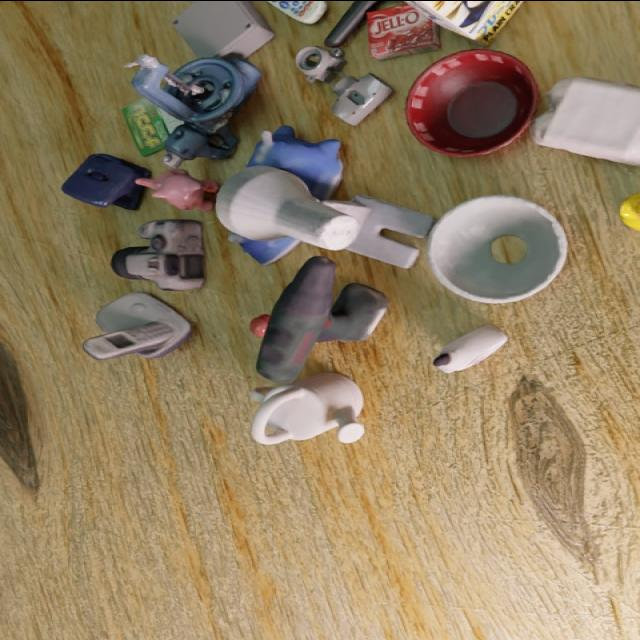Other Objects: (427, 195, 567, 303), (405, 49, 537, 156), (532, 77, 639, 165), (251, 372, 364, 444), (83, 292, 191, 359), (111, 219, 204, 289), (173, 1, 273, 57), (61, 154, 149, 209), (433, 326, 507, 373), (136, 169, 219, 210), (331, 73, 392, 124), (324, 1, 380, 47), (296, 46, 343, 81), (268, 1, 327, 24), (619, 193, 639, 230)
